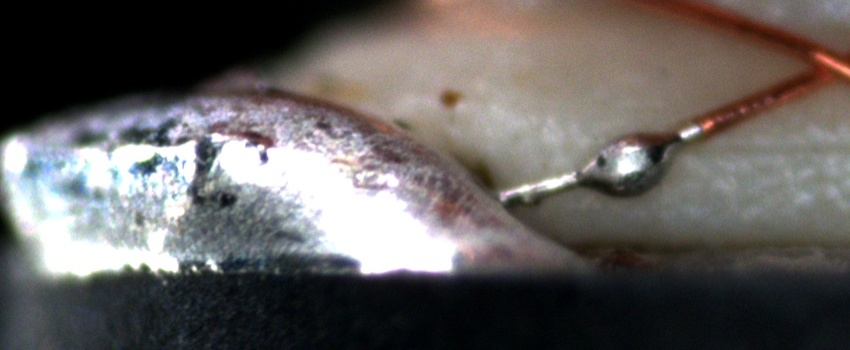CL: (792, 33, 849, 90)
DL: (684, 112, 850, 176)
TB: (574, 129, 684, 205)
TS: (495, 122, 704, 205)
TTCW: (486, 99, 736, 212)
